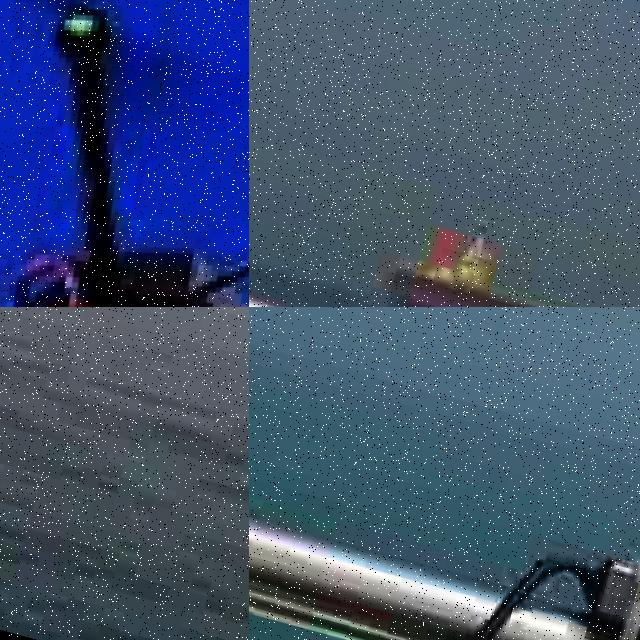drone: (0, 0, 249, 307)
